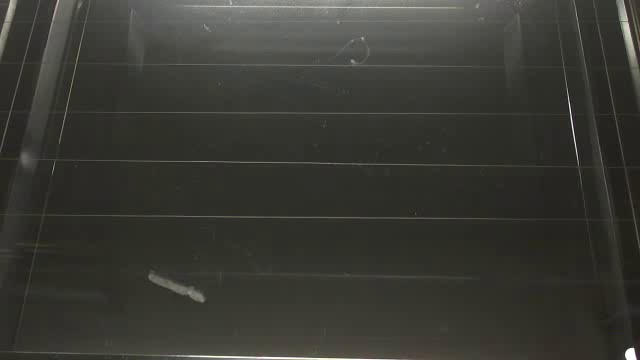Alfa: (146, 268, 208, 306)
